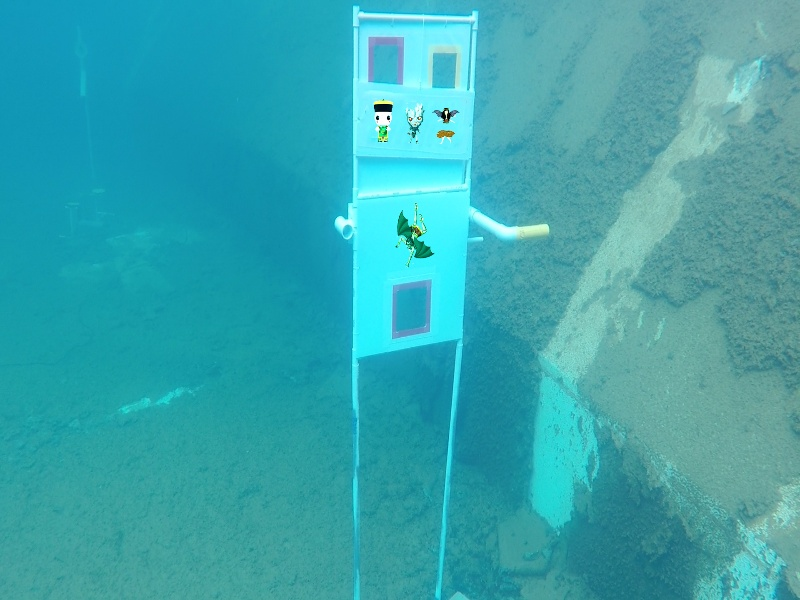Aswang: (432, 107, 461, 144)
Draugr: (402, 103, 427, 146)
Jiangshi: (373, 98, 396, 144)
Vetalas: (394, 201, 435, 269)
